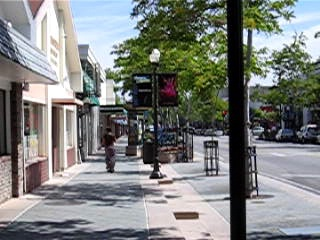person: (102, 127, 117, 174), (101, 127, 116, 174), (103, 127, 118, 174), (102, 126, 117, 173), (102, 128, 117, 175)
target_negative: (97, 101, 266, 222), (65, 186, 264, 237), (66, 106, 90, 144), (187, 205, 307, 212), (262, 170, 265, 183), (315, 196, 320, 198)
